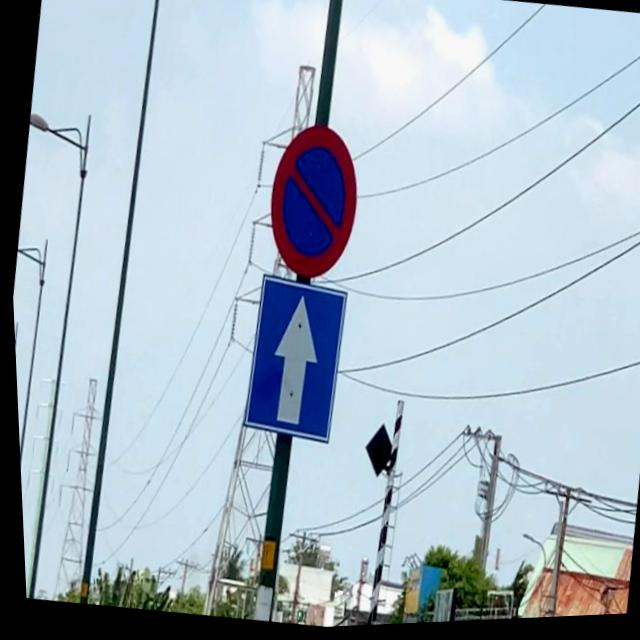Cam do xe: (256, 120, 368, 288)
Duong mot chieu: (230, 271, 353, 452)
